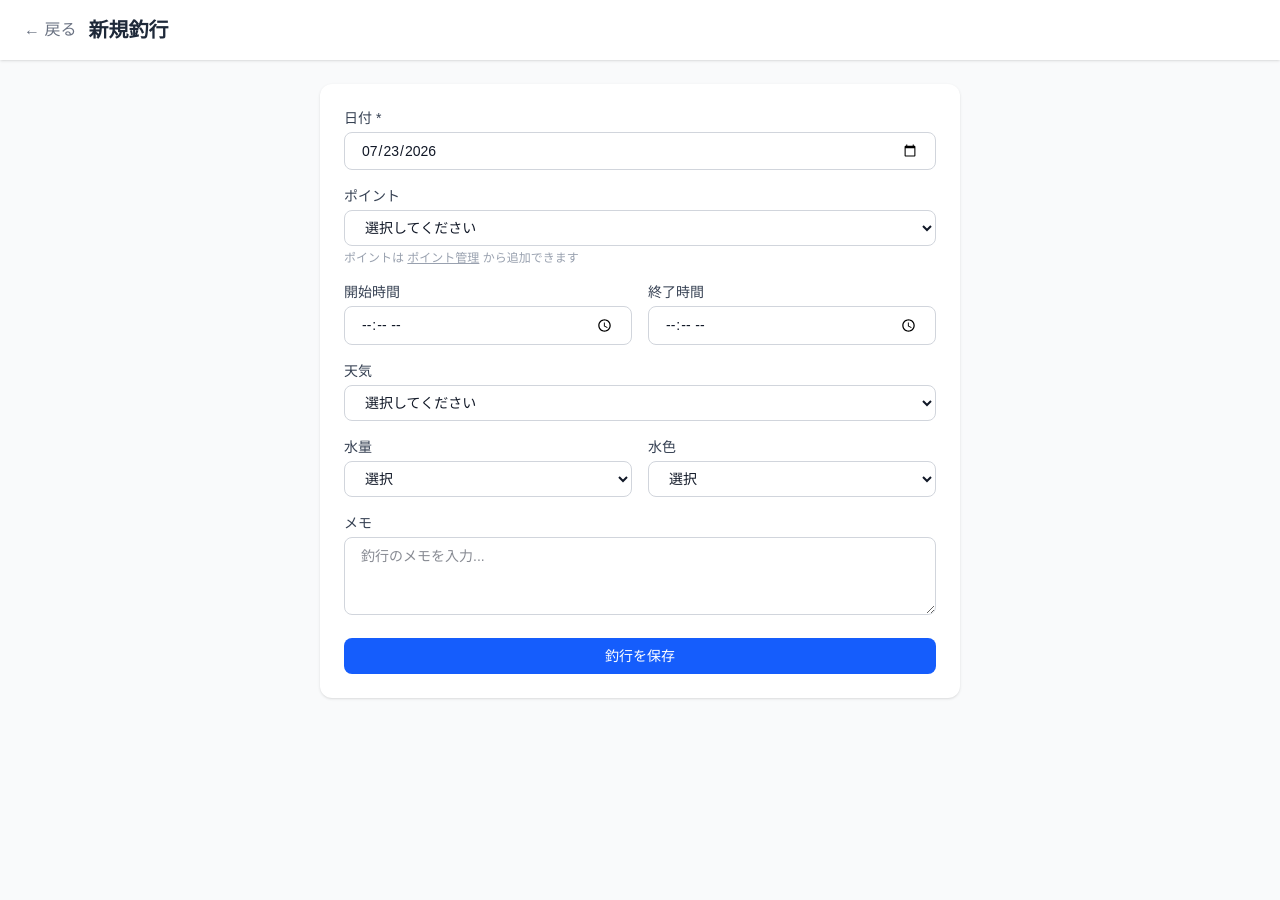
Test: NewSessionPage › 保存中はボタンが "保存中..." で disabled
Click the button "釣行を保存" at x=640, y=656, box [344,638,936,674]
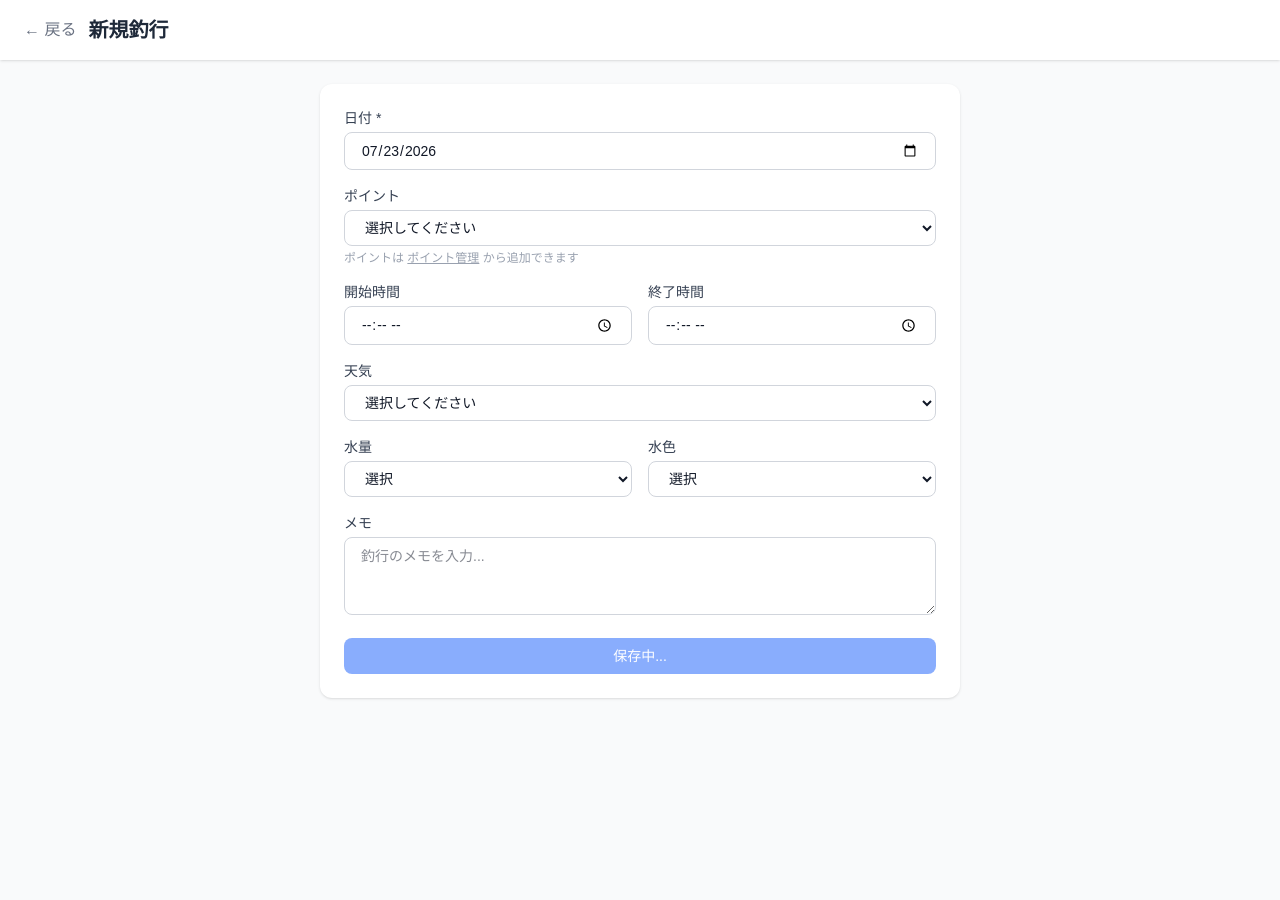
Expected: the button "保存中..." is disabled, [344,638,936,674]
